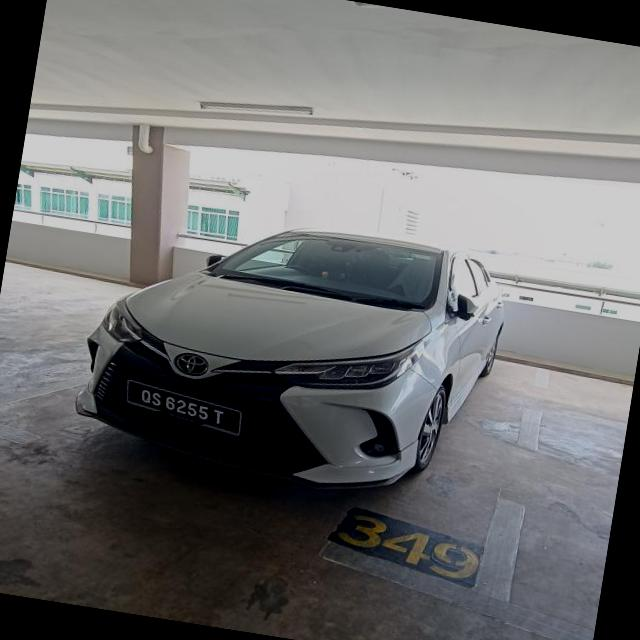ToyotaVios: (67, 192, 516, 515)
